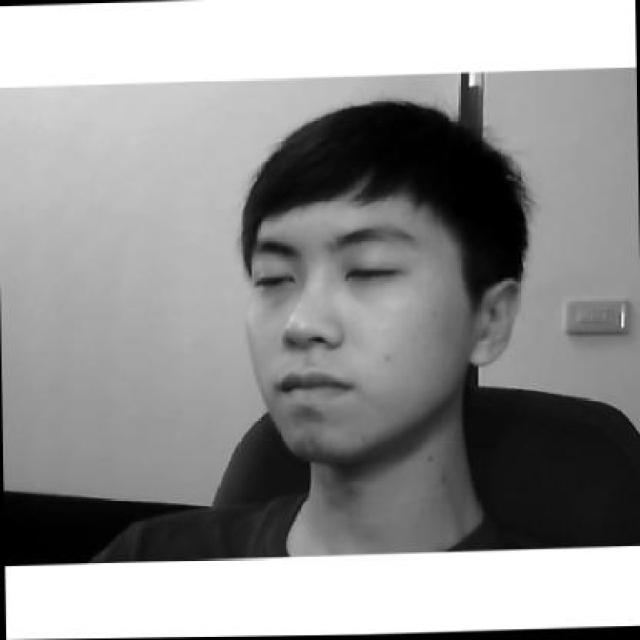inattentif: (238, 93, 524, 462)
